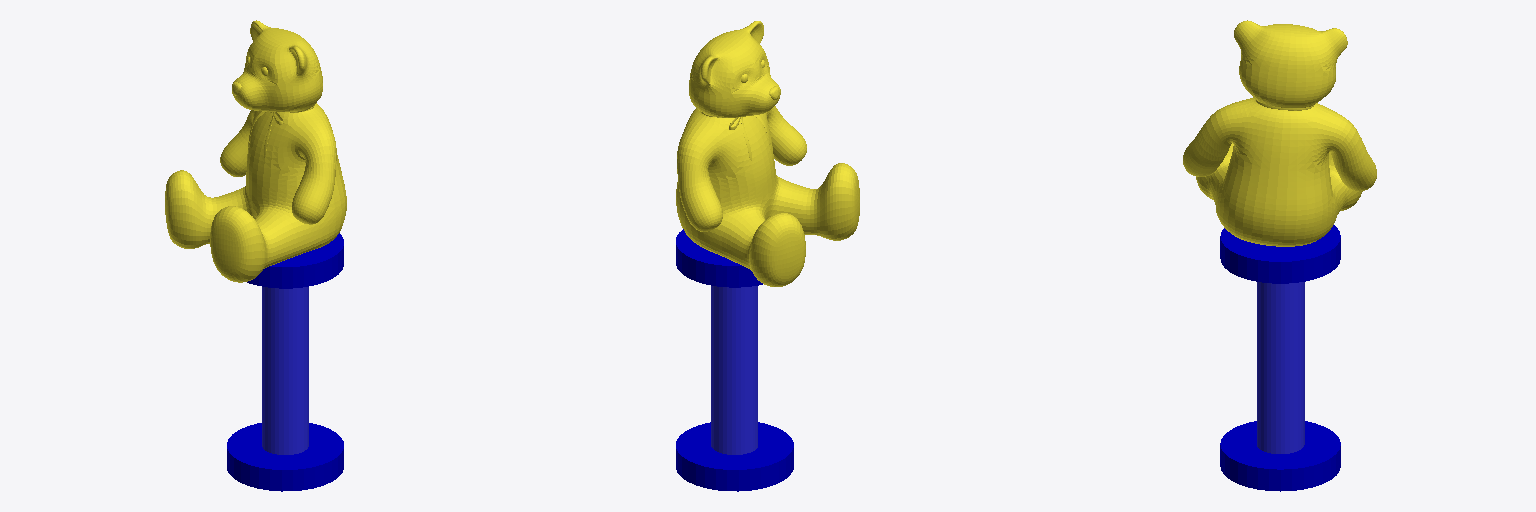
robot.urdf — physics:
<?xml version="1.0"?>
<robot name="physics">
  <link name="base_link">
    <visual>
      <geometry>
        <cylinder length="0.02" radius="0.05"/>
      </geometry>
      <material name="blue">
        <color rgba="0 0 .8 1"/>
      </material>
    </visual>
    <collision>
      <geometry>
        <cylinder length="0.02" radius="0.05"/>
      </geometry>
    </collision>
    <inertial>
      <mass value="0.01"/>
      <inertia ixx="0.000002" ixy="0.0" ixz="0.0" iyy="0.000002" iyz="0.0" izz="0.000002"/>
    </inertial>
  </link>

  <link name="grasp_cylinder">
    <visual>
      <geometry>
        <cylinder length="0.18" radius="0.02"/>
      </geometry>
      <material name="blue">
        <color rgba="0.2 0.2 0.9 1"/>
      </material>
    </visual>
    <collision>
      <geometry>
        <cylinder length="0.12" radius="0.01"/>
      </geometry>
    </collision>
    <inertial>
      <mass value="0.001"/>
      <inertia ixx="1e-9" ixy="0" ixz="0" iyy="1e-9" iyz="0" izz="1e-9"/>
    </inertial>
  </link>

  <joint name="jfixed1" type="fixed">
    <parent link="base_link"/>
    <child link="grasp_cylinder"/>
    <origin xyz="0 0 0.09"/>
  </joint>


  <link name="top_cylinder">
    <visual>
      <geometry>
        <cylinder length="0.02" radius="0.05"/>
      </geometry>
      <material name="blue">
        <color rgba="0 0 .8 1"/>
      </material>
    </visual>
    <collision>
      <geometry>
        <cylinder length="0.02" radius="0.05"/>
      </geometry>
    </collision>
    <inertial>
      <mass value="0.001"/>
      <inertia ixx="1e-9" ixy="0" ixz="0" iyy="1e-9" iyz="0" izz="1e-9"/>
    </inertial>
  </link>

  <joint name="jfixed2" type="fixed">
    <parent link="grasp_cylinder"/>
    <child link="top_cylinder"/>
    <origin xyz="0 0 0.1"/>
  </joint>

  <link name="duck_stuff">
    <contact>
      <lateral_friction value="1.0"/>
      <rolling_friction value="0.0"/>
      <contact_cfm value="0.0"/>
      <contact_erp value="1.0"/>
    </contact>
    <inertial>
      <origin rpy="1.57 0 0" xyz="0.0 0.02 0.0"/>
       <mass value=".001"/>
       <inertia ixx="1e-9" ixy="0" ixz="0" iyy="1e-9" iyz="0" izz="1e-9"/>
    </inertial>
    <visual>
      <origin rpy="1.57 0 0" xyz="0 0 0"/>
      <geometry>
        <mesh filename="teddy.obj" scale=".07 .07 .07"/>
      </geometry>
       <material name="red">
      </material>
    </visual>
    <collision>
      <origin rpy="1.57 0 0" xyz="0 0 0"/>
      <geometry>
	 	<mesh filename="teddy.obj" scale=".07 .07 .07"/>
      </geometry>
    </collision>
  </link>

    <joint name="jfixed_stuff" type="fixed">
    <parent link="top_cylinder"/>
    <child link="duck_stuff"/>
    <origin rpy="0 0 0" xyz="0 0 0.01"/>
  </joint>


</robot>

--- What the picture shows (computed from the rendered views, not written in the file) ---
The picture shows the robot from 3 angles, left to right: view 1: azimuth 30°, elevation 25°; view 2: azimuth 150°, elevation 25°; view 3: azimuth 270°, elevation 25°; orthographic projection.
Robot: physics — 4 links, 3 joints (3 fixed); root link base_link; default pose: every joint at zero.
Links seen in each view (by area): view 1: duck_stuff, grasp_cylinder, base_link, top_cylinder; view 2: duck_stuff, grasp_cylinder, base_link, top_cylinder; view 3: duck_stuff, grasp_cylinder, base_link, top_cylinder.
Link boxes in pixels (box(x1,y1,x2,y2)): duck_stuff: box(165, 20, 346, 282); grasp_cylinder: box(262, 287, 308, 454); base_link: box(227, 423, 343, 491); top_cylinder: box(247, 233, 343, 288); duck_stuff: box(676, 21, 859, 286); grasp_cylinder: box(711, 286, 757, 454); base_link: box(676, 422, 793, 491); top_cylinder: box(676, 229, 762, 287); duck_stuff: box(1183, 20, 1376, 246); grasp_cylinder: box(1257, 282, 1304, 453); base_link: box(1220, 421, 1340, 491); top_cylinder: box(1220, 225, 1340, 283).
Size in the robot's own frame: 0.1446 by 0.1612 by 0.405 metres.
1 mesh visuals loaded from 1 distinct referenced files (1 OBJ).